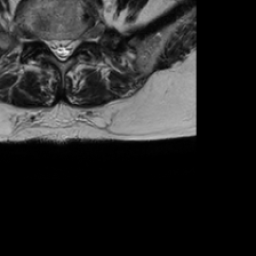CCS_normal: (58, 31, 65, 66)
LFS_normal: (75, 25, 85, 52)
LLS_normal: (66, 33, 75, 62)
RFS_severe_stenosis: (38, 29, 48, 53)
RLS_normal: (48, 34, 58, 61)
